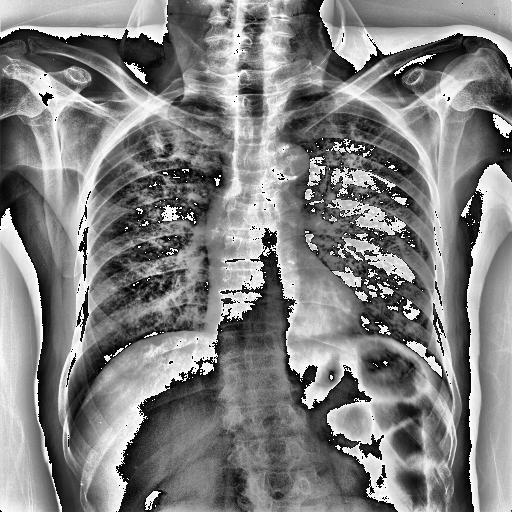0- Aortic enlargement: (258, 142, 310, 188), (271, 140, 309, 179)
13- Pulmonary fibrosis: (320, 119, 344, 189)
5- ILD: (290, 88, 448, 378), (88, 99, 230, 360), (85, 107, 221, 339), (90, 120, 217, 340), (302, 114, 425, 333), (317, 116, 419, 332)
6- Infiltration: (168, 110, 221, 170)
7- Lung Opacity: (168, 110, 221, 170)
